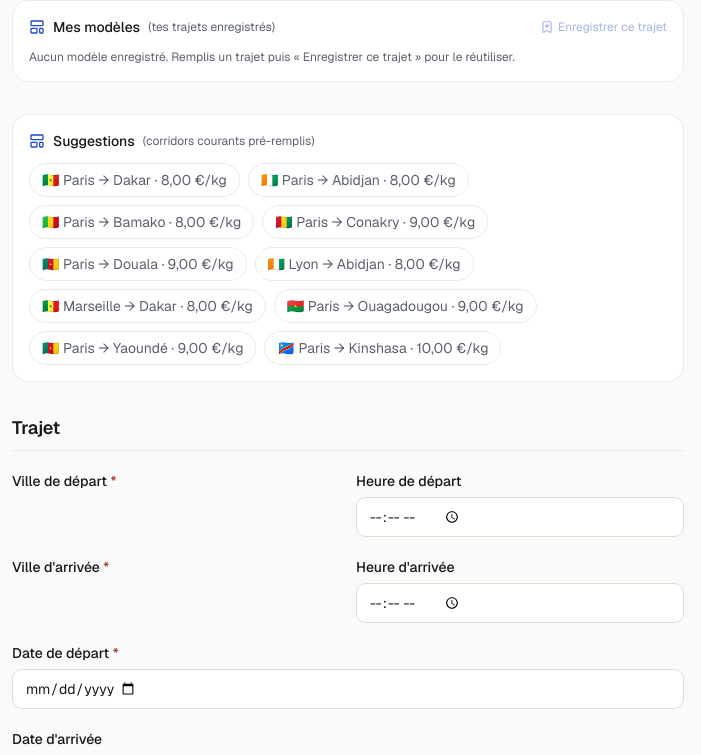
Test: NewAnnouncementForm — catalogue de contenus › sélectionner une suggestion de corridor pré-remplit le trajet
The image size is (701, 755).
Click the button with test id "quick-template-paris-dakar" at (134, 180), box x1=29 y1=163 x2=240 y2=197
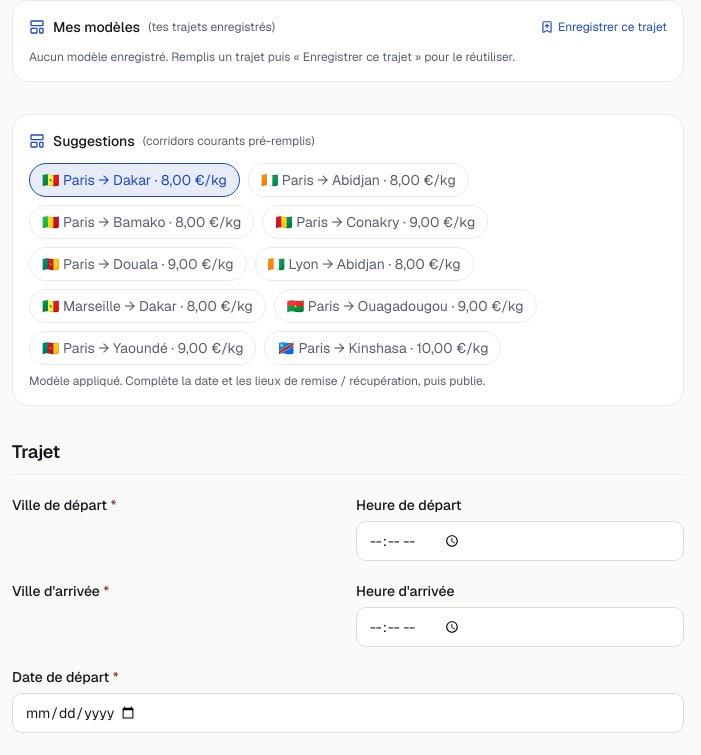
Expected: the text with test id "quick-template-hint" is shown, x1=29 y1=373 x2=485 y2=389
